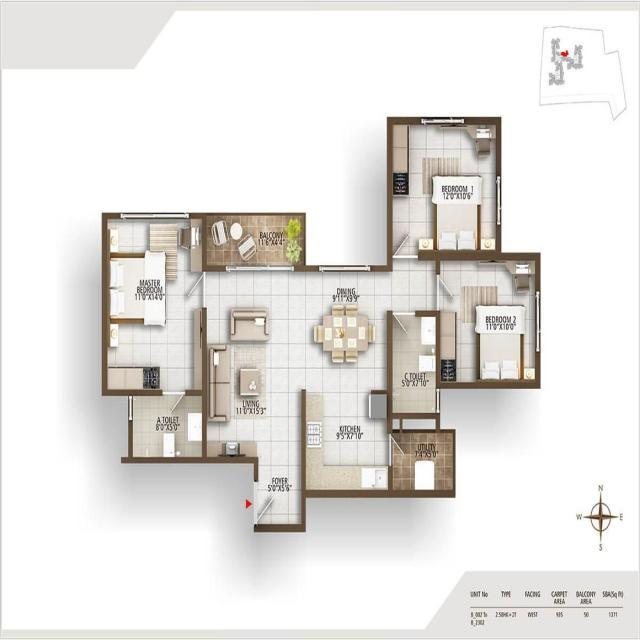Balcony-Sitout: (207, 215, 304, 265)
Bedroom: (393, 124, 496, 250), (441, 261, 535, 382)
Bedroom with Toilet: (106, 215, 204, 461)
Dining: (311, 301, 375, 365)
Enterance-Foyer: (254, 459, 301, 524)
Kitchen: (305, 391, 388, 489)
Living: (206, 273, 302, 457)
Toilet: (392, 316, 436, 414), (133, 397, 202, 457)
Utility: (393, 433, 452, 490)
